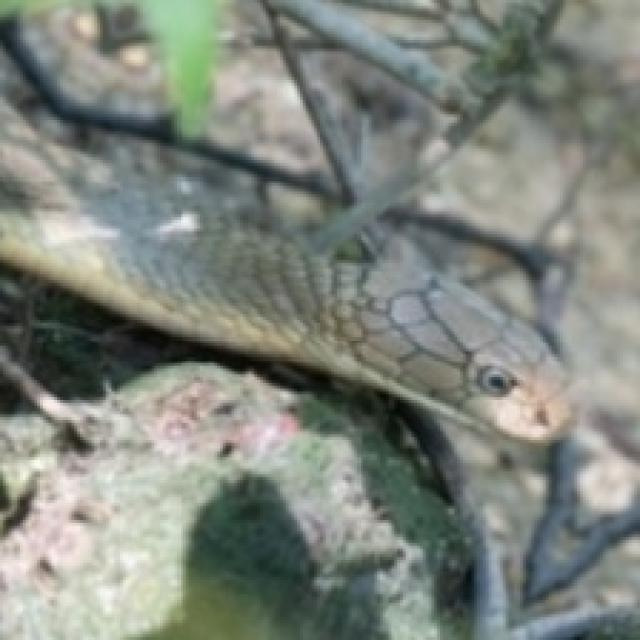king cobra: (0, 0, 571, 440)
